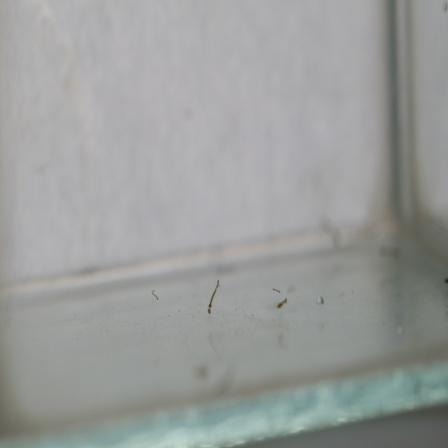Jentik-Nyamuk: (203, 278, 226, 315), (273, 295, 290, 313)
